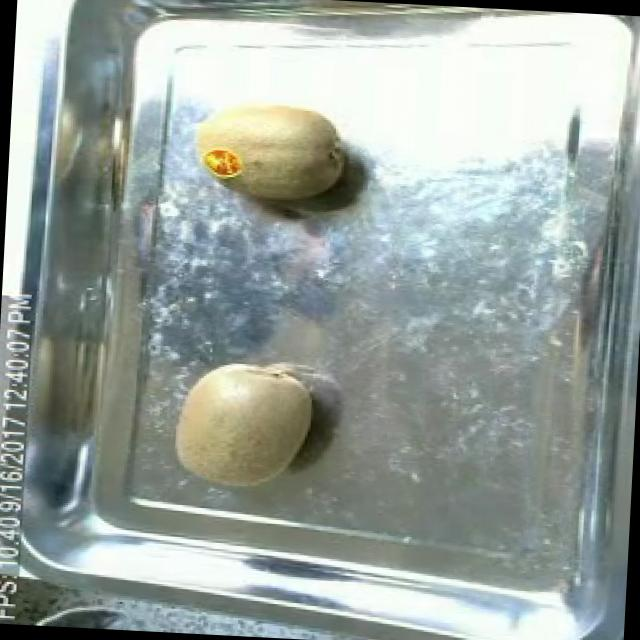Fruit: (159, 350, 328, 506), (182, 88, 354, 215)
